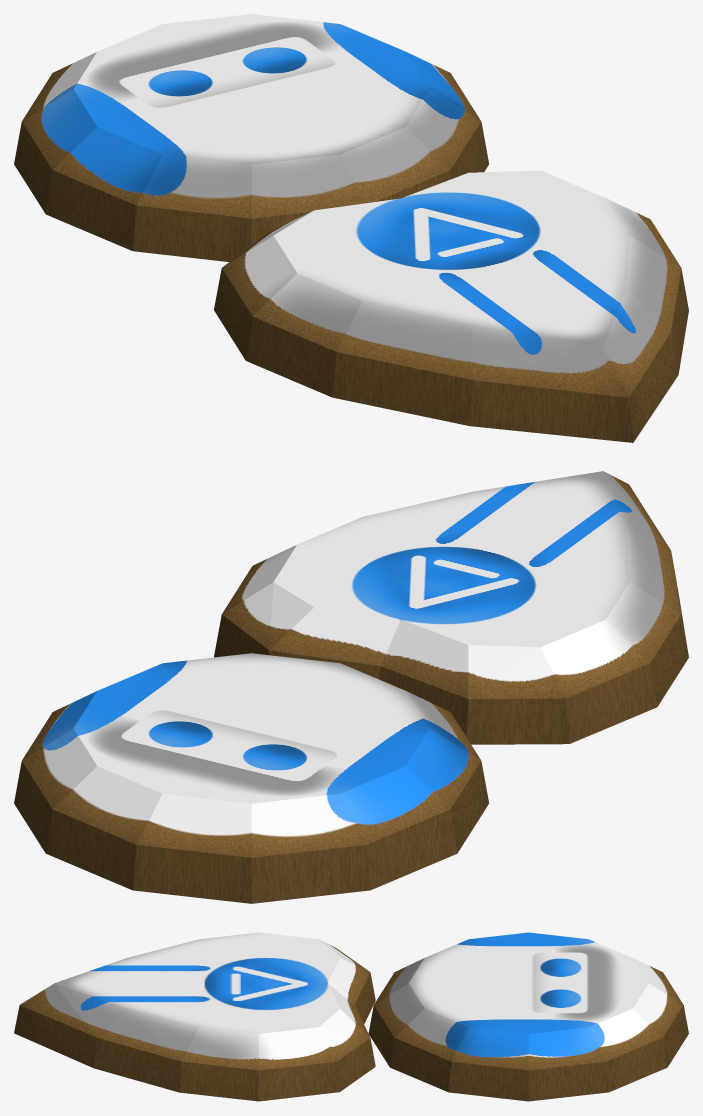
File: cookie-old.obj
3 renders of one model, top to bottom at view 1: azimuth 30°, elevation 25°; view 2: azimuth 150°, elevation 25°; view 3: azimuth 270°, elevation 25°, orthographic. The views are drawn at different scales.
Visible parts, largest first — view 1: Circle; view 2: Circle; view 3: Circle.
Boxes of the visible parts, x1,y1,x2,y2 form: Circle: (14, 14, 688, 442); Circle: (14, 471, 688, 903); Circle: (14, 932, 688, 1101).
Size of the model in its own units: 2.07 by 0.3615 by 4.36.
